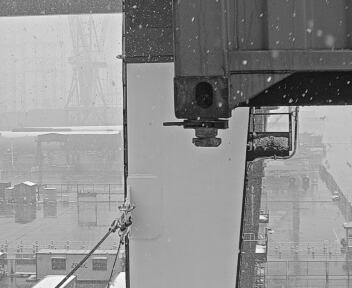twist_lock_1: (151, 167, 238, 236)
